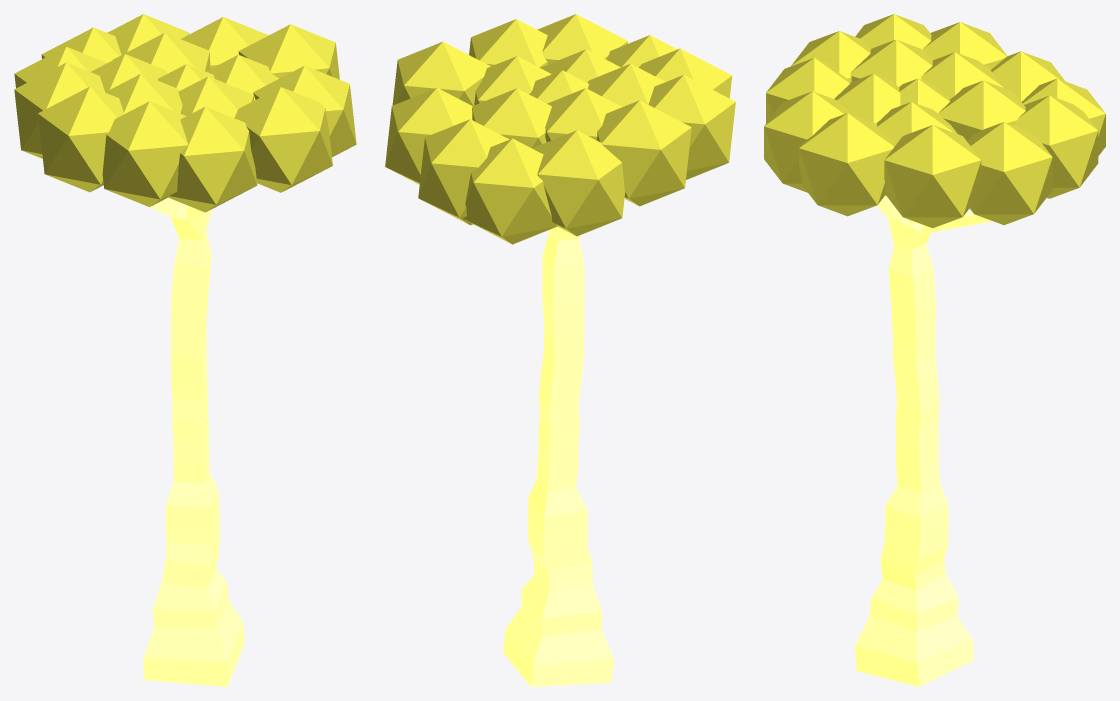
The model's file is erdtree(1).fbx.
3 renders of one model, left to right at view 1: azimuth 30°, elevation 25°; view 2: azimuth 150°, elevation 25°; view 3: azimuth 270°, elevation 25°, orthographic. The views are drawn at different scales.
Parts seen in each view (by area): view 1: Cube, Icosphere.007, Icosphere.006, Icosphere.003, Icosphere.005, Icosphere, Icosphere.015, Icosphere.010, Icosphere.014, Icosphere.012, Icosphere.008, Icosphere.004 (+6 smaller); view 2: Cube, Icosphere.002, Icosphere, Icosphere.009, Icosphere.013, Icosphere.005, Icosphere.014, Icosphere.015, Icosphere.012, Icosphere.010, Icosphere.007, Icosphere.001 (+6 smaller); view 3: Cube, Icosphere.015, Icosphere.010, Icosphere.014, Icosphere.013, Icosphere.007, Icosphere.012, Icosphere.003, Icosphere.004, Icosphere, Icosphere.008, Icosphere.001 (+6 smaller).
Boxes of the visible parts, x1,y1,x2,y2 form: Cube: (143,197,244,686); Icosphere.007: (234,87,332,192); Icosphere.006: (102,101,188,206); Icosphere.003: (168,106,257,212); Icosphere.005: (38,86,124,192); Icosphere: (14,62,104,158); Icosphere.015: (238,24,339,79); Icosphere.010: (253,65,356,156); Icosphere.014: (181,17,268,68); Icosphere.012: (113,33,210,73); Icosphere.008: (178,76,253,118); Icosphere.004: (105,74,182,113); Cube: (503,226,613,686); Icosphere.002: (532,130,625,236); Icosphere: (596,100,691,206); Icosphere.009: (463,138,557,244); Icosphere.013: (418,119,509,225); Icosphere.005: (648,75,735,179); Icosphere.014: (385,88,472,184); Icosphere.015: (392,41,490,105); Icosphere.012: (472,88,551,148); Icosphere.010: (469,19,547,67); Icosphere.007: (537,14,627,64); Icosphere.001: (545,88,622,142); Cube: (855,195,992,686); Icosphere.015: (884,125,981,228); Icosphere.010: (799,113,894,216); Icosphere.014: (967,122,1052,224); Icosphere.013: (1014,95,1098,198); Icosphere.007: (764,91,851,192); Icosphere.012: (938,80,1025,141); Icosphere.003: (766,58,851,123); Icosphere.004: (850,39,932,86); Icosphere: (923,22,1007,69); Icosphere.008: (834,73,900,123); Icosphere.001: (921,52,1003,98).
Size of the model in its own units: 2150 by 4064 by 2097.
